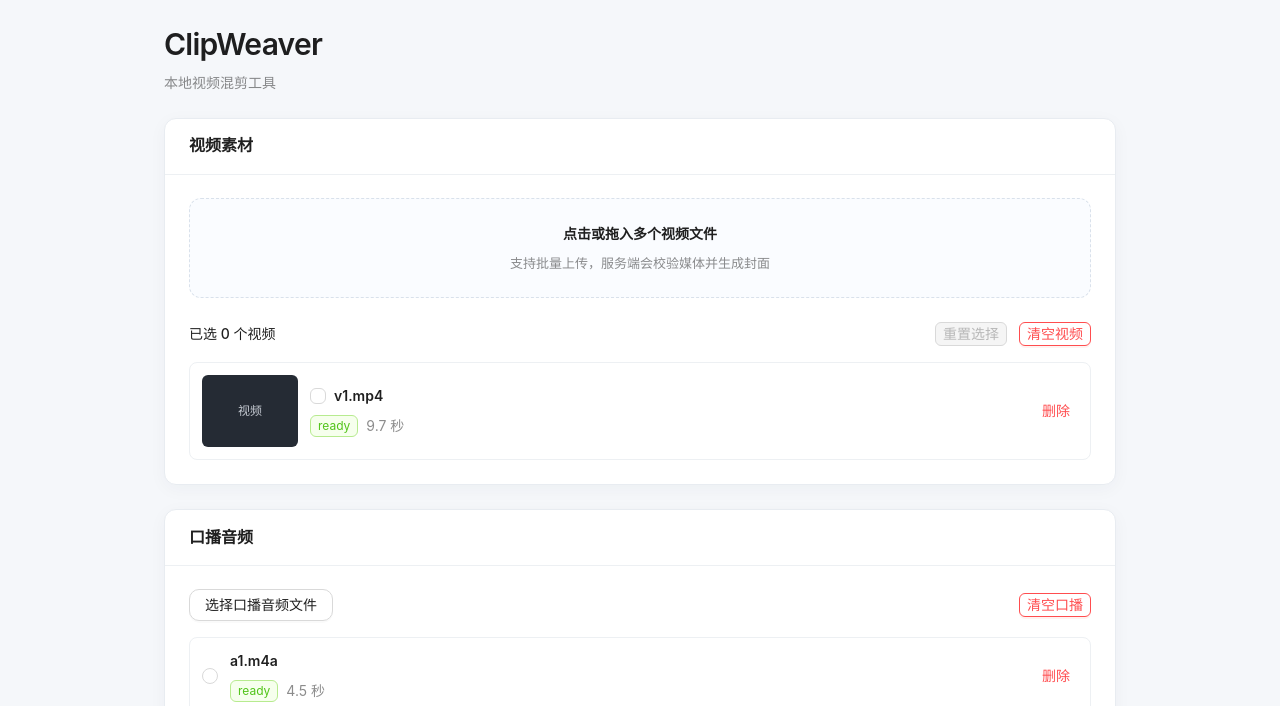
Test: mix requires a selected ready video and audio
This screenshot has width=1280, height=706.
Click the checkbox named "选择视频 v1.mp4" at x=318, y=396, box top-left (310, 385), bottom-right (326, 407)
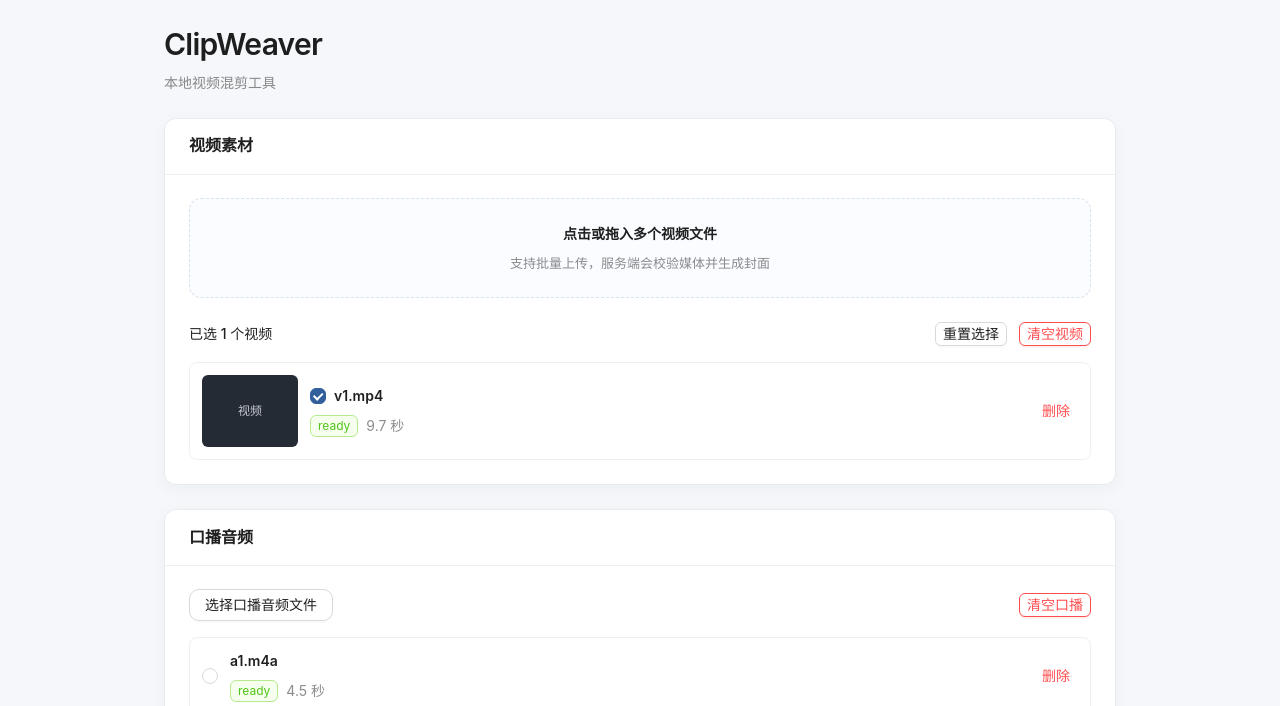
Click the checkbox named "选择视频 v1.mp4" at x=318, y=396, box top-left (310, 385), bottom-right (326, 407)
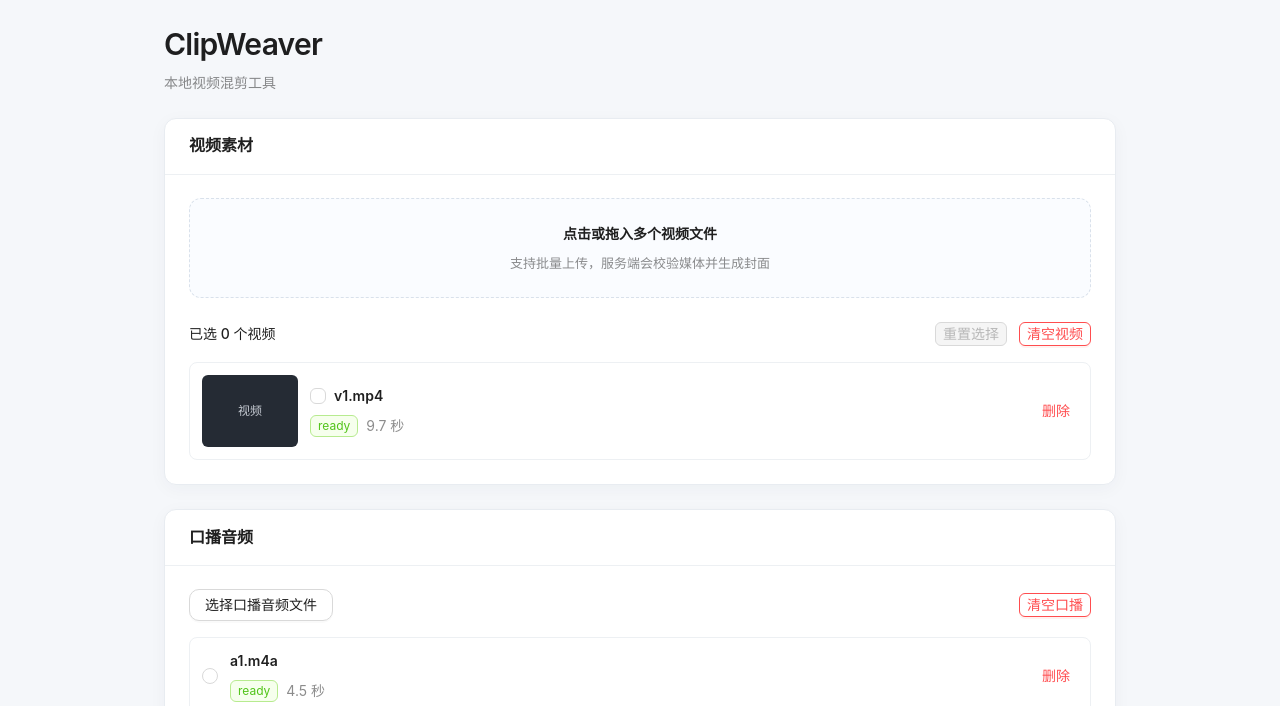
Click the radio button named "选择口播 a1.m4a" at x=210, y=676, box top-left (202, 665), bottom-right (218, 687)
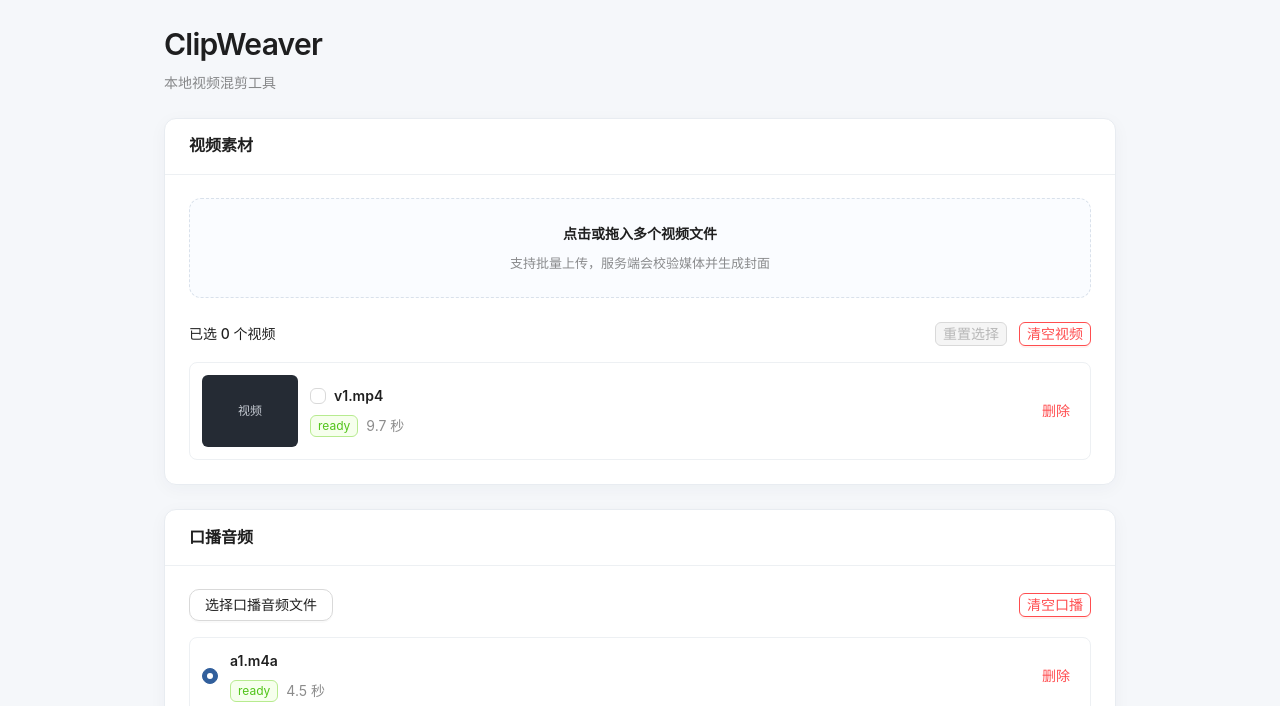
Click the checkbox named "选择视频 v1.mp4" at x=318, y=396, box top-left (310, 385), bottom-right (326, 407)
(page scrolled)
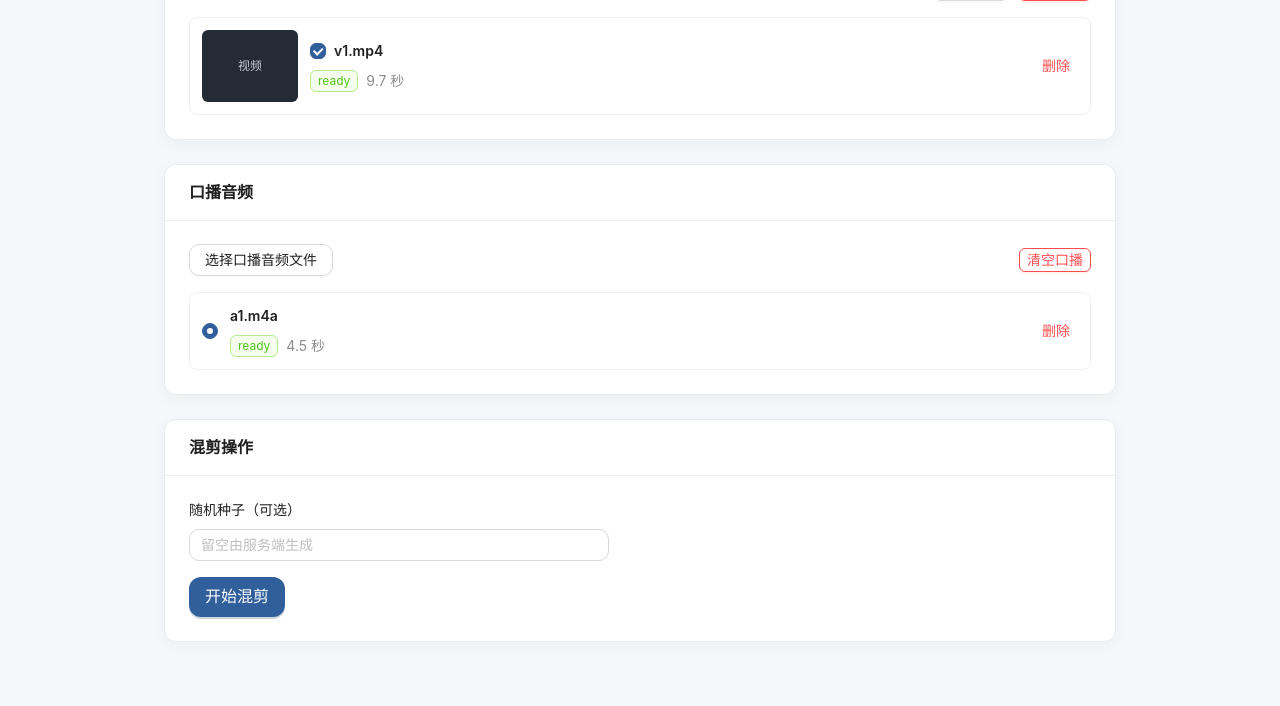
Check: the button "开始混剪" is enabled, box top-left (189, 577), bottom-right (285, 617)
